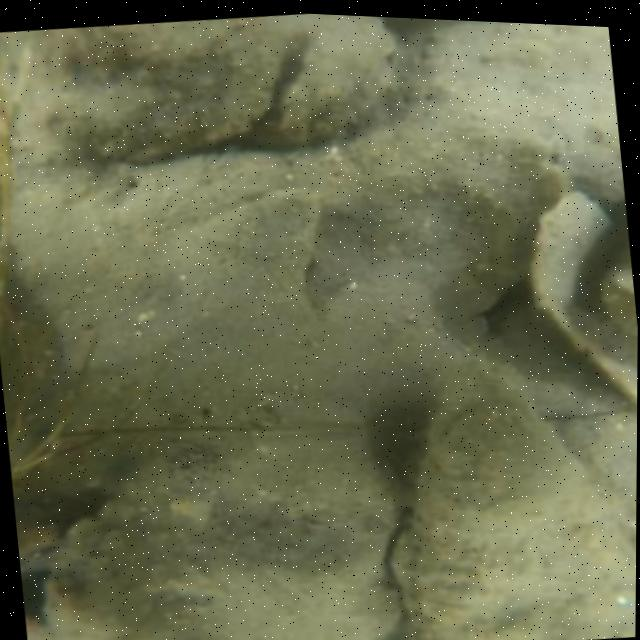Oyster-Closed: (399, 367, 636, 640)
Oyster-Indeterminate: (40, 393, 404, 640), (15, 19, 285, 165), (278, 28, 395, 144)
